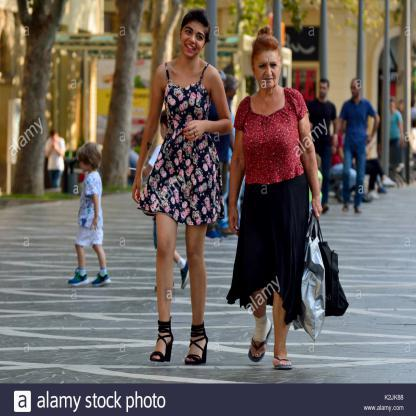person: (228, 32, 320, 368), (144, 8, 228, 365), (334, 77, 379, 214), (69, 141, 107, 287), (310, 78, 339, 156)
